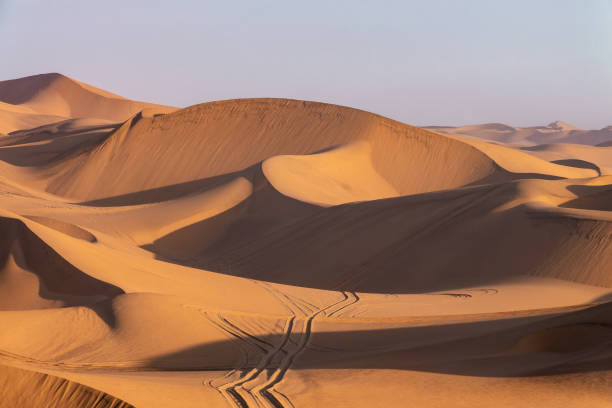vehicle_track: (208, 284, 358, 407), (252, 292, 357, 407), (217, 316, 294, 407), (203, 311, 268, 377), (325, 291, 359, 316)
